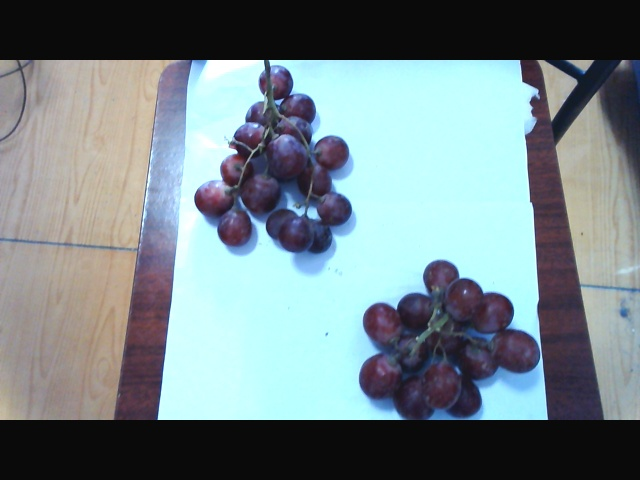grape: (193, 72, 356, 268), (345, 253, 530, 414)
